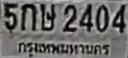0: (95, 3, 108, 31)
2: (62, 3, 76, 31)
4: (111, 3, 125, 32), (78, 2, 92, 30)
5: (3, 2, 17, 30)
A01: (20, 2, 36, 30)
A39: (39, 2, 55, 30)
BKK: (15, 39, 111, 58)
